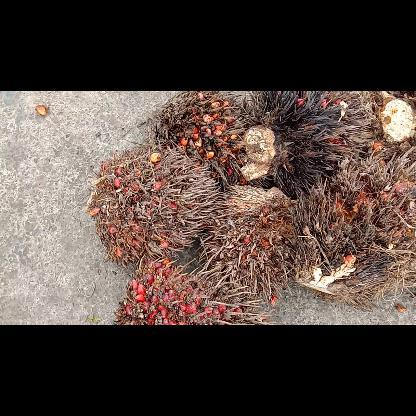Terlalu masak: (293, 146, 415, 312), (87, 145, 219, 266), (240, 91, 369, 193), (148, 91, 272, 187), (196, 185, 296, 297), (114, 256, 270, 324)
